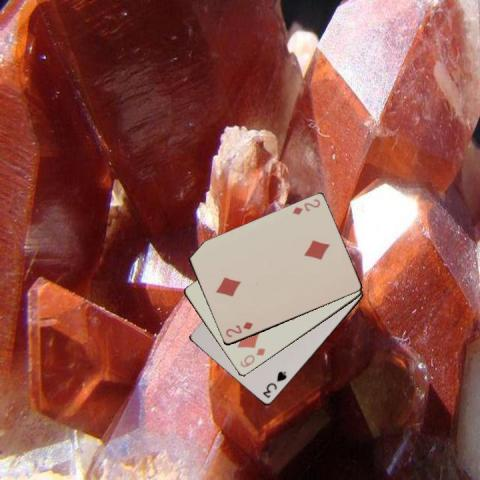2d: (290, 196, 322, 217), (223, 318, 254, 338)
3s: (260, 369, 288, 399)
6d: (236, 346, 266, 370)
